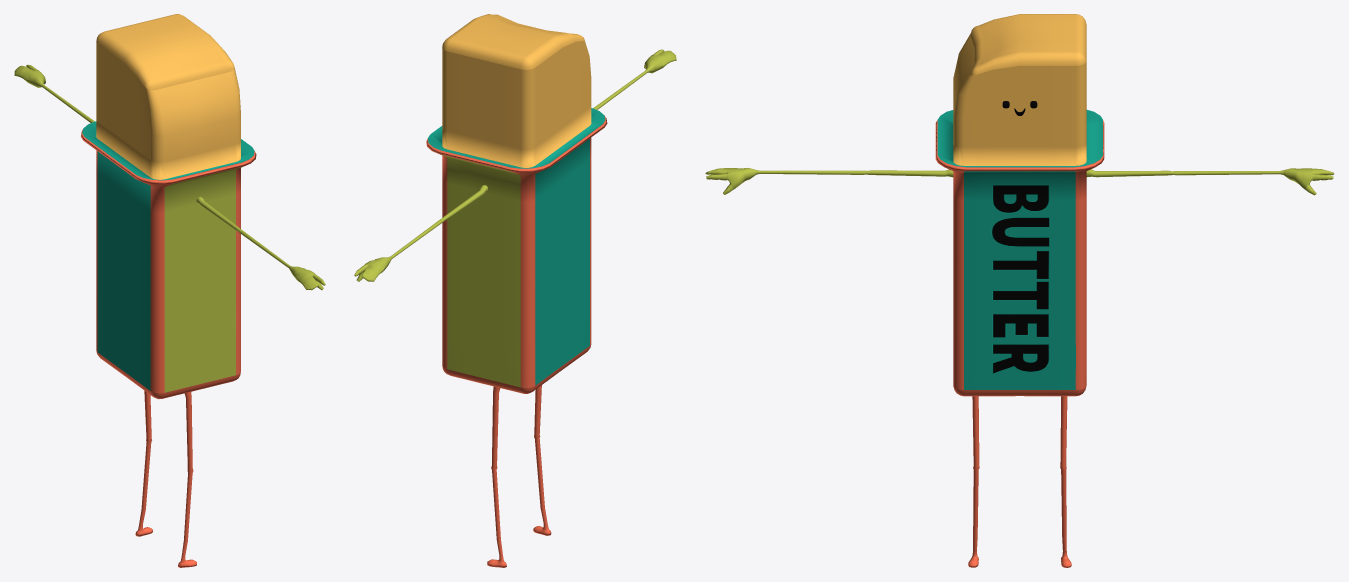
Rendered from Butter Character.glb.
3 renders of one model, left to right at view 1: azimuth 30°, elevation 25°; view 2: azimuth 150°, elevation 25°; view 3: azimuth 270°, elevation 25°, orthographic. The views are drawn at different scales.
Visible parts, largest first — view 1: mesh_char_120_2; view 2: mesh_char_120_2; view 3: mesh_char_120_2.
Boxes of the visible parts, x1,y1,x2,y2 form: mesh_char_120_2: (14,14,325,567); mesh_char_120_2: (354,14,676,567); mesh_char_120_2: (705,14,1334,567).
Size of the model in its own units: 1.23 by 5.06 by 5.42.
1 material, 1 textured.
